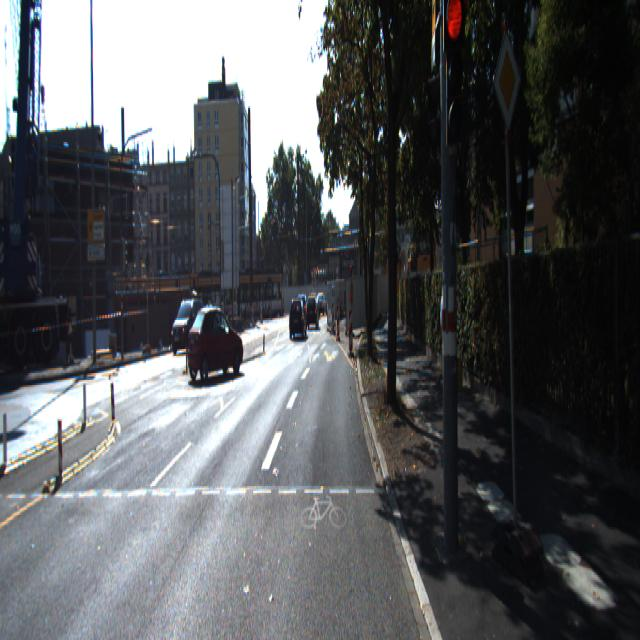Car: (186, 300, 245, 379), (170, 288, 206, 345), (289, 295, 307, 337)
DontCare: (0, 0, 75, 388), (309, 279, 330, 333)
